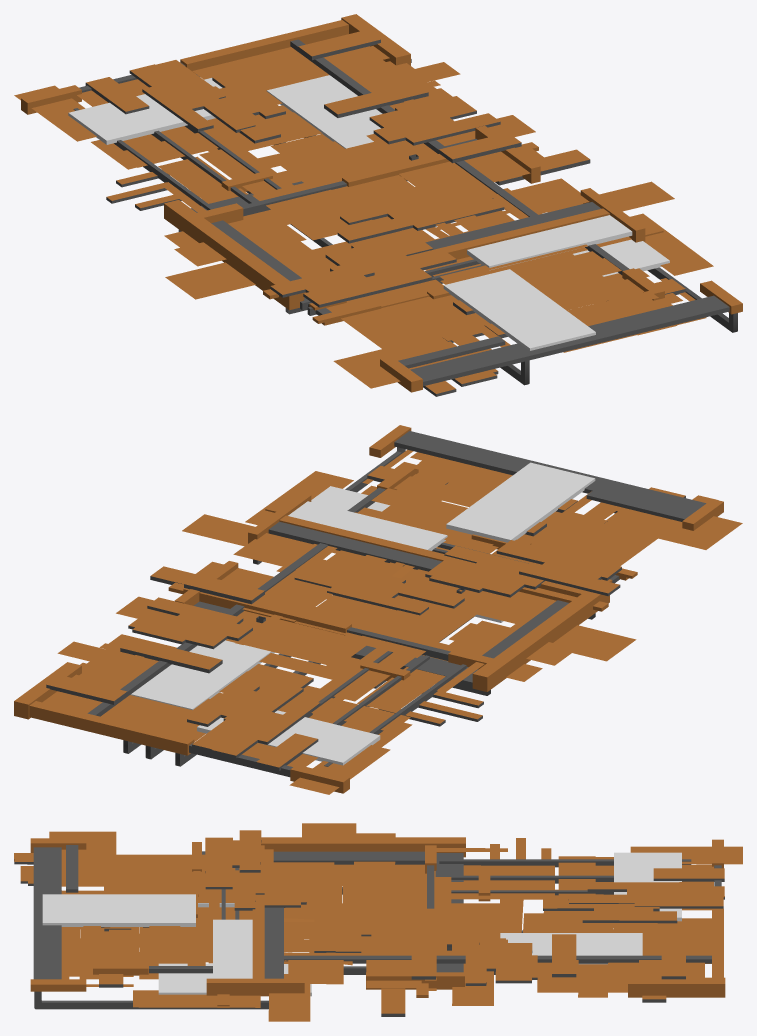
File: VexArchitecture_54.fbx
The picture shows the model from 3 angles, top to bottom: view 1: azimuth 30°, elevation 25°; view 2: azimuth 150°, elevation 25°; view 3: azimuth 270°, elevation 25°; orthographic projection. The views are drawn at different scales.
Visible parts, largest first — view 1: Mesh_0504.rip, Mesh_0562.rip, Mesh_0482.rip, Mesh_0487.rip, Mesh_0481.rip; view 2: Mesh_0504.rip, Mesh_0562.rip, Mesh_0482.rip, Mesh_0487.rip, Mesh_0481.rip; view 3: Mesh_0504.rip, Mesh_0562.rip, Mesh_0482.rip, Mesh_0487.rip, Mesh_0481.rip.
Part boxes in pixels (x1,y1,x2,y2): Mesh_0504.rip: [14, 14, 742, 392]; Mesh_0562.rip: [86, 29, 685, 393]; Mesh_0482.rip: [73, 39, 737, 396]; Mesh_0487.rip: [68, 75, 669, 350]; Mesh_0481.rip: [85, 39, 685, 338]; Mesh_0504.rip: [14, 425, 742, 794]; Mesh_0562.rip: [47, 466, 716, 767]; Mesh_0482.rip: [87, 431, 706, 777]; Mesh_0487.rip: [130, 462, 595, 765]; Mesh_0481.rip: [46, 475, 577, 771]; Mesh_0504.rip: [30, 823, 742, 1021]; Mesh_0562.rip: [14, 830, 724, 1013]; Mesh_0482.rip: [14, 840, 724, 1009]; Mesh_0487.rip: [42, 852, 681, 996]; Mesh_0481.rip: [99, 878, 724, 1016].
Bounding box in the file's own units: 129 × 9.96 × 199.
